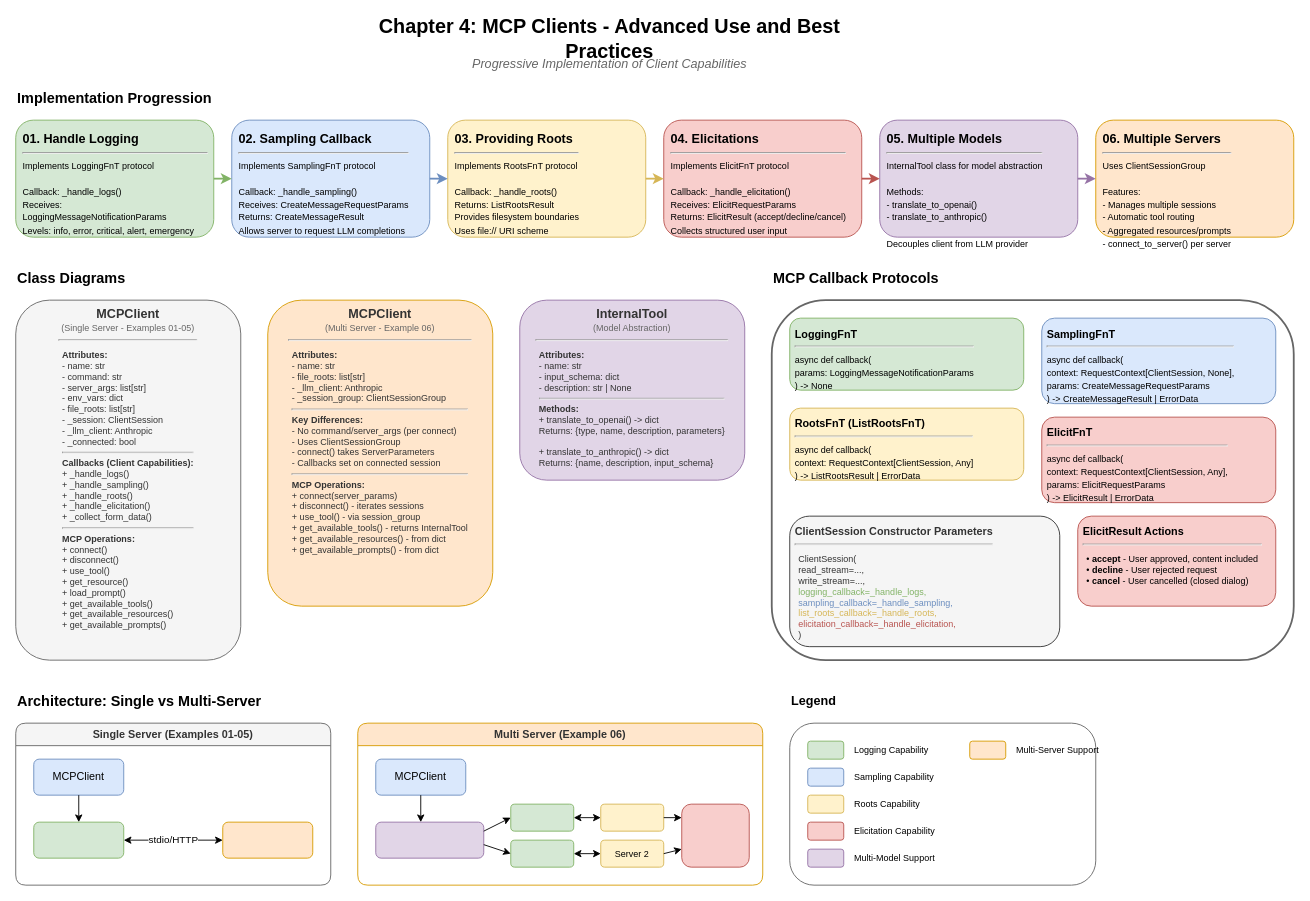
Some shapes in this 1310 by 901 pixel diagram are drawn without their labels. Here are the shapes that lost their labels. From the top down, the centre of each, then its label:
the point at 542,817: Session 1
the point at 632,817: Server 1
the point at 715,835: Aggregated Tools/Resources/ Prompts
the point at 78,839: ClientSession
the point at 267,839: MCP Server
the point at 429,839: ClientSessionGroup
the point at 542,853: Session 2
